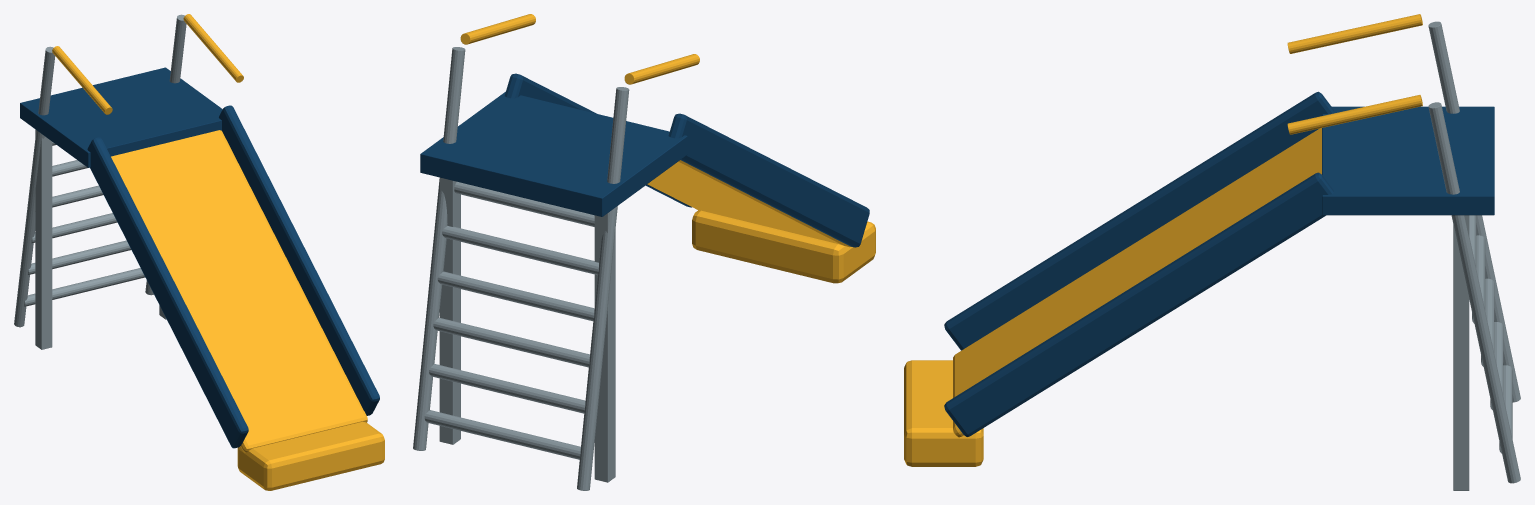
The model's file is edited.glb.
The picture shows the model from 3 angles, left to right: view 1: azimuth 30°, elevation 25°; view 2: azimuth 150°, elevation 25°; view 3: azimuth 270°, elevation 25°; orthographic projection. The views are drawn at different scales.
Visible parts, largest first — view 1: CHUTE_Slope, PLATFORM, CHUTE_Side.001, CHUTE_Side, CHUTE_Landing, SUPPORT, LADDER_Rail, LADDER_Rung, LADDER_Rung.001, RAIL_Hand, RAIL_Hand.001, LADDER_Rail.001 (+2 smaller); view 2: PLATFORM, CHUTE_Side.001, CHUTE_Landing, LADDER_Rail, CHUTE_Slope, LADDER_Rail.001, SUPPORT.001, SUPPORT, LADDER_Rung.003, LADDER_Rung.001, LADDER_Rung, LADDER_Rung.002 (+5 smaller); view 3: CHUTE_Side, PLATFORM, CHUTE_Slope, CHUTE_Side.001, CHUTE_Landing, LADDER_Rail.001, SUPPORT.001, LADDER_Rail, RAIL_Hand, RAIL_Hand.001.
Boxes of the visible parts, x1,y1,x2,y2 form: CHUTE_Slope: (111, 130, 367, 452); PLATFORM: (20, 67, 222, 167); CHUTE_Side.001: (87, 137, 248, 448); CHUTE_Side: (219, 105, 379, 415); CHUTE_Landing: (237, 421, 384, 490); SUPPORT: (35, 129, 52, 349); LADDER_Rail: (14, 46, 55, 327); LADDER_Rung: (24, 268, 145, 306); LADDER_Rung.001: (28, 240, 131, 274); RAIL_Hand: (52, 46, 112, 114); RAIL_Hand.001: (183, 14, 243, 82); LADDER_Rail.001: (145, 14, 186, 295); PLATFORM: (420, 92, 687, 216); CHUTE_Side.001: (668, 113, 869, 247); CHUTE_Landing: (692, 210, 875, 283); LADDER_Rail: (577, 87, 629, 490); CHUTE_Slope: (647, 160, 851, 247); LADDER_Rail.001: (413, 47, 465, 450); SUPPORT.001: (439, 177, 460, 444); SUPPORT: (594, 211, 615, 482); LADDER_Rung.003: (437, 271, 594, 321); LADDER_Rung.001: (429, 364, 585, 413); LADDER_Rung: (424, 410, 580, 459); LADDER_Rung.002: (433, 317, 589, 367); CHUTE_Side: (944, 172, 1333, 436); PLATFORM: (1322, 106, 1494, 215); CHUTE_Slope: (953, 128, 1321, 437); CHUTE_Side.001: (944, 91, 1333, 350); CHUTE_Landing: (904, 360, 983, 466); LADDER_Rail.001: (1428, 102, 1520, 483); SUPPORT.001: (1453, 215, 1469, 490); LADDER_Rail: (1428, 21, 1520, 402); RAIL_Hand: (1287, 14, 1422, 53); RAIL_Hand.001: (1287, 95, 1422, 134).
Bounding box in the file's own units: 0.8 × 1.64 × 2.32.
